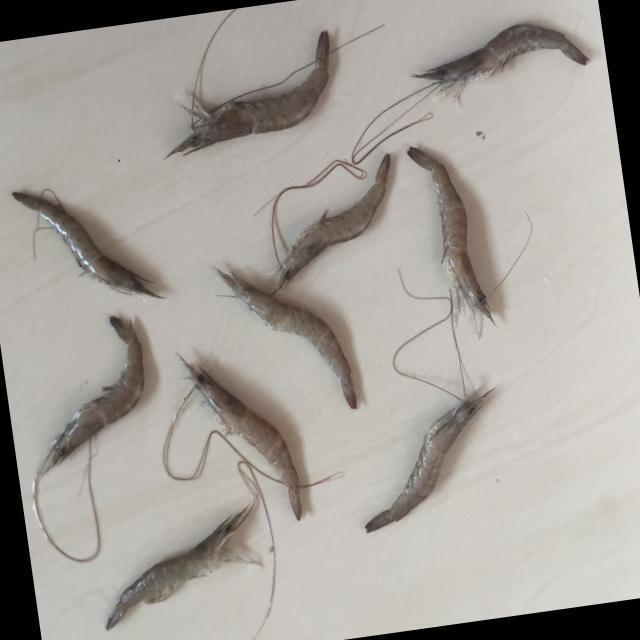shrimp: (166, 30, 330, 156), (181, 358, 301, 521), (217, 270, 357, 409), (106, 501, 255, 631), (366, 390, 494, 534), (38, 318, 144, 478), (272, 154, 391, 294), (12, 192, 165, 299), (408, 146, 494, 323), (413, 24, 590, 92)
